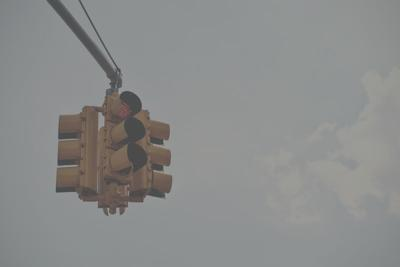International Road Signal Light: (103, 102, 155, 199), (55, 107, 90, 198), (145, 117, 173, 201)
